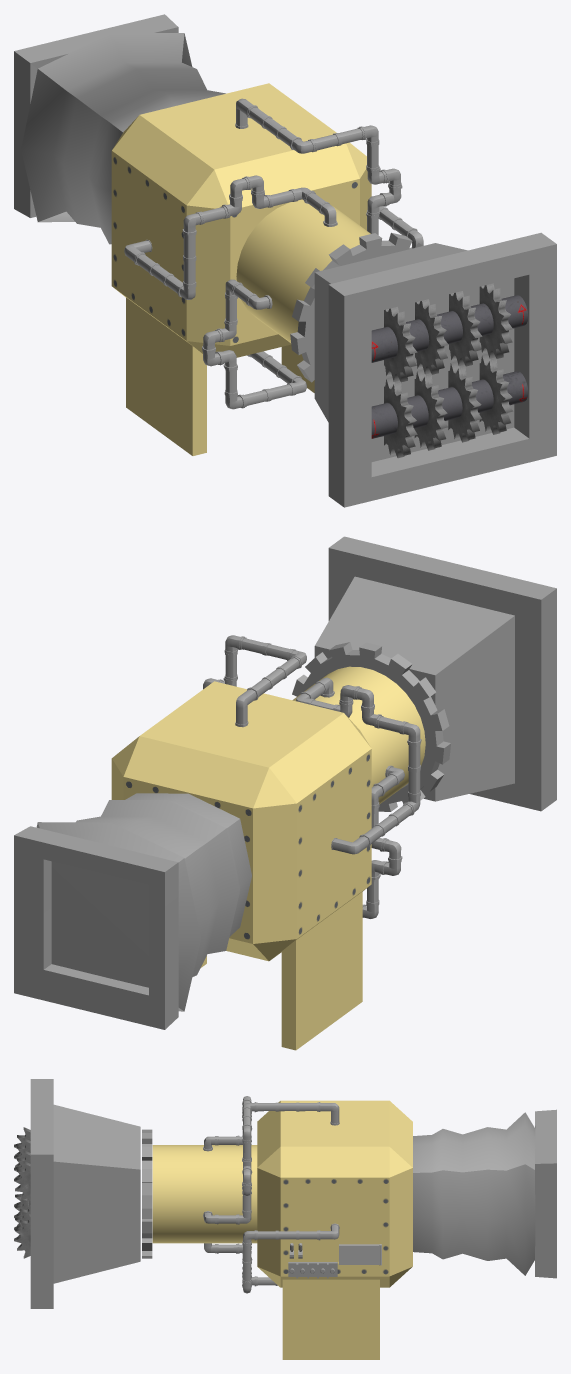
File: IDM_Woodchiper_5_Texture_Ready.fbx
3 views of the same model, one above another, from view 1: azimuth 30°, elevation 25°; view 2: azimuth 150°, elevation 25°; view 3: azimuth 270°, elevation 25° (orthographic). The views are drawn at different scales.
Visible parts, largest first — view 1: Main_Body, Funnel, Box_Cannon, Pipes, Blades_2, Blades_1, Gear; view 2: Main_Body, Box_Cannon, Funnel, Pipes, Gear; view 3: Main_Body, Box_Cannon, Funnel, Pipes, Gear, Blades_1, Panel_Door, Blades_2, _Button_Panel.
Part boxes in pixels (bbox=[...]): Main_Body: bbox=[111, 83, 371, 455]; Funnel: bbox=[314, 232, 556, 507]; Box_Cannon: bbox=[14, 14, 225, 244]; Pipes: bbox=[124, 98, 423, 409]; Blades_2: bbox=[371, 353, 528, 458]; Blades_1: bbox=[371, 283, 528, 382]; Gear: bbox=[290, 232, 422, 382]; Main_Body: bbox=[111, 666, 425, 1050]; Box_Cannon: bbox=[14, 793, 251, 1029]; Funnel: bbox=[314, 536, 556, 811]; Pipes: bbox=[203, 635, 421, 918]; Gear: bbox=[292, 642, 450, 811]; Main_Body: bbox=[152, 1100, 412, 1359]; Box_Cannon: bbox=[413, 1109, 556, 1278]; Funnel: bbox=[30, 1079, 140, 1308]; Pipes: bbox=[203, 1096, 339, 1293]; Gear: bbox=[142, 1129, 152, 1258]; Blades_1: bbox=[14, 1127, 30, 1206]; Panel_Door: bbox=[339, 1244, 381, 1265]; Blades_2: bbox=[14, 1194, 30, 1258]; _Button_Panel: bbox=[288, 1262, 337, 1278].
Bounding box in the file's own units: 230 × 286 × 619.
